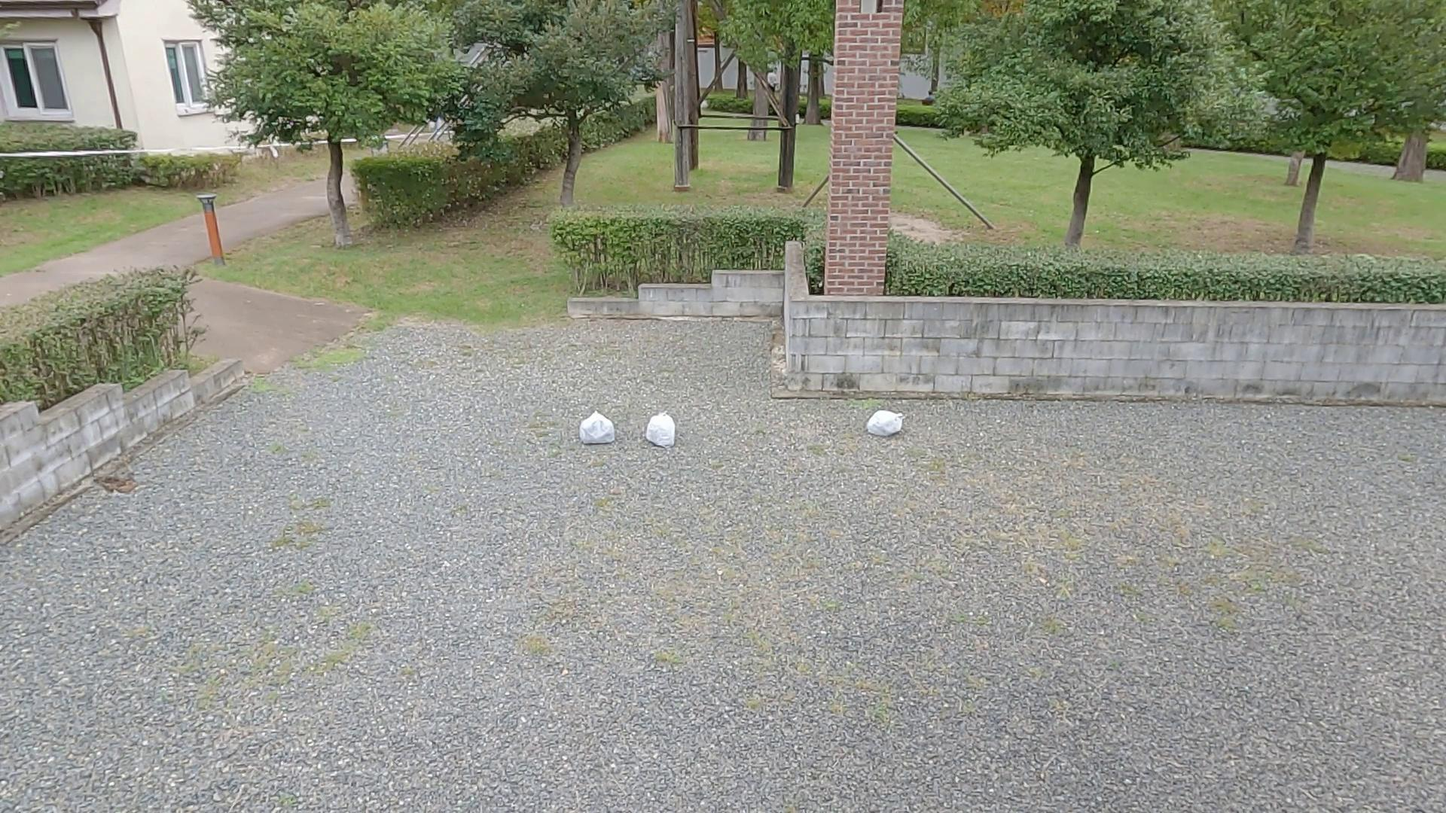trash: (644, 411, 678, 450), (580, 412, 616, 447), (867, 410, 905, 438)
